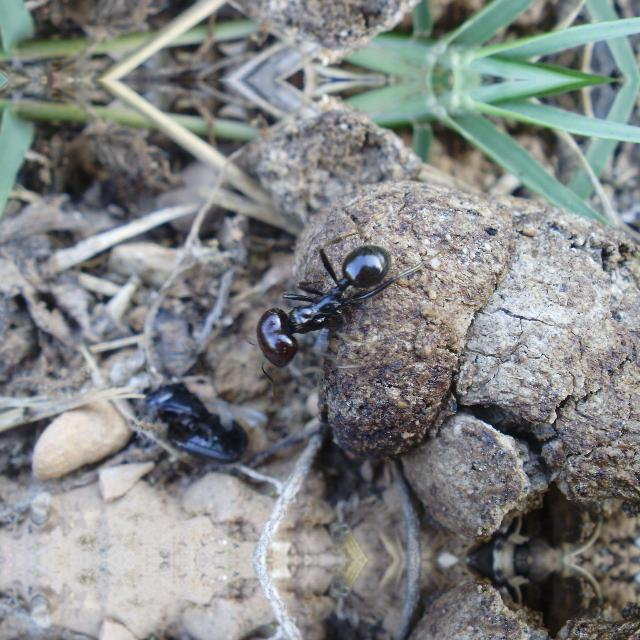Messor: (253, 230, 405, 374)
